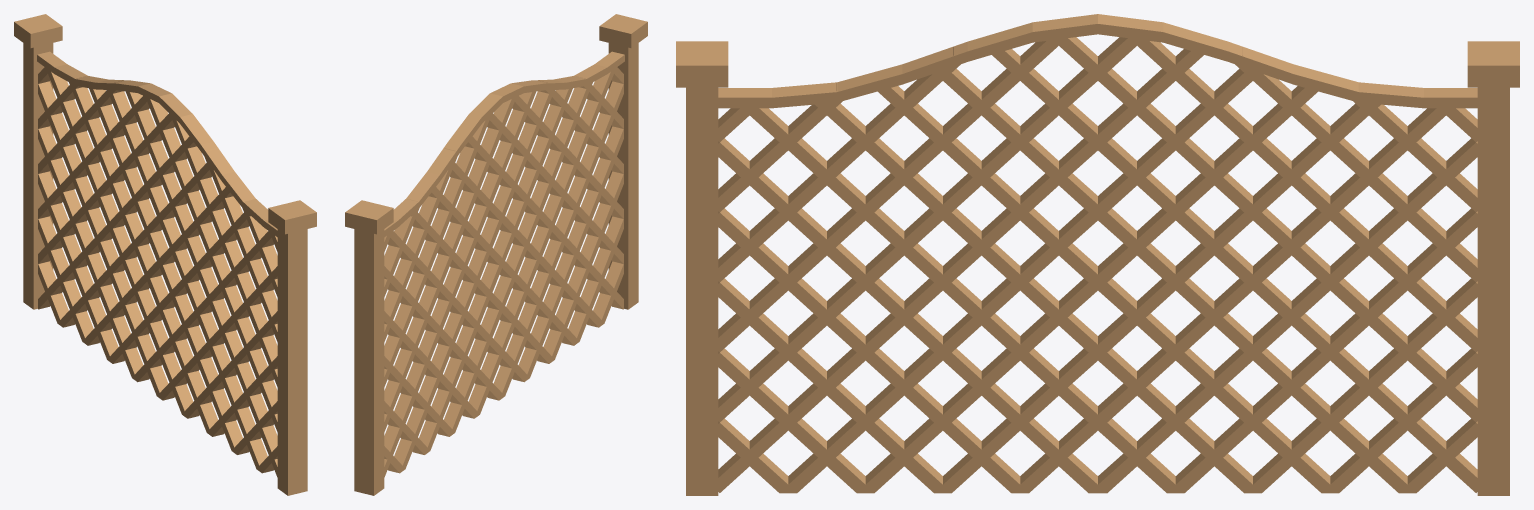
The model's file is trellisempty.fbx.
3 renders of one model, left to right at view 1: azimuth 30°, elevation 25°; view 2: azimuth 150°, elevation 25°; view 3: azimuth 270°, elevation 25°, orthographic. The views are drawn at different scales.
Visible parts, largest first — view 1: Plane.012; view 2: Plane.012; view 3: Plane.012.
Part boxes in pixels (x1,y1,x2,y2): Plane.012: [14, 14, 316, 495]; Plane.012: [345, 14, 647, 495]; Plane.012: [676, 14, 1519, 495].
Bounding box in the file's own units: 26.93 × 244 × 397.
